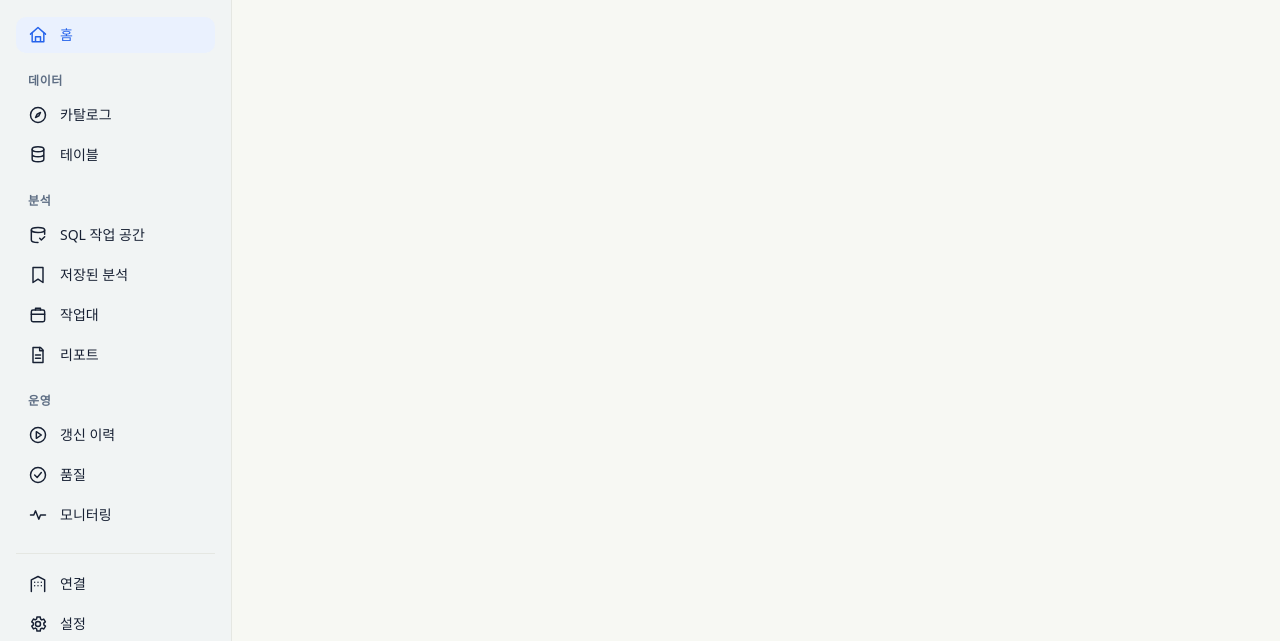
it: command palette (#533) › lists matching tables before sources, and picks the first table by default
This screenshot has width=1280, height=641.
Press k
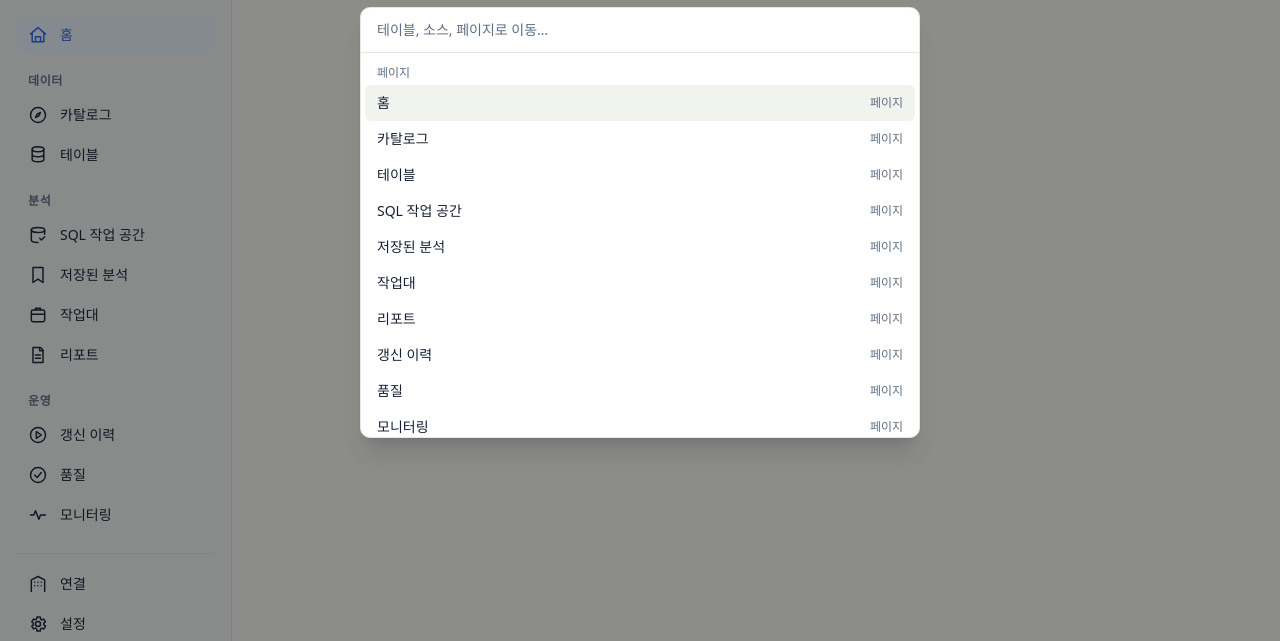
Type "아파트" into the dropdown.
click(640, 31); type("아파트")  # box x1=361 y1=8 x2=919 y2=53
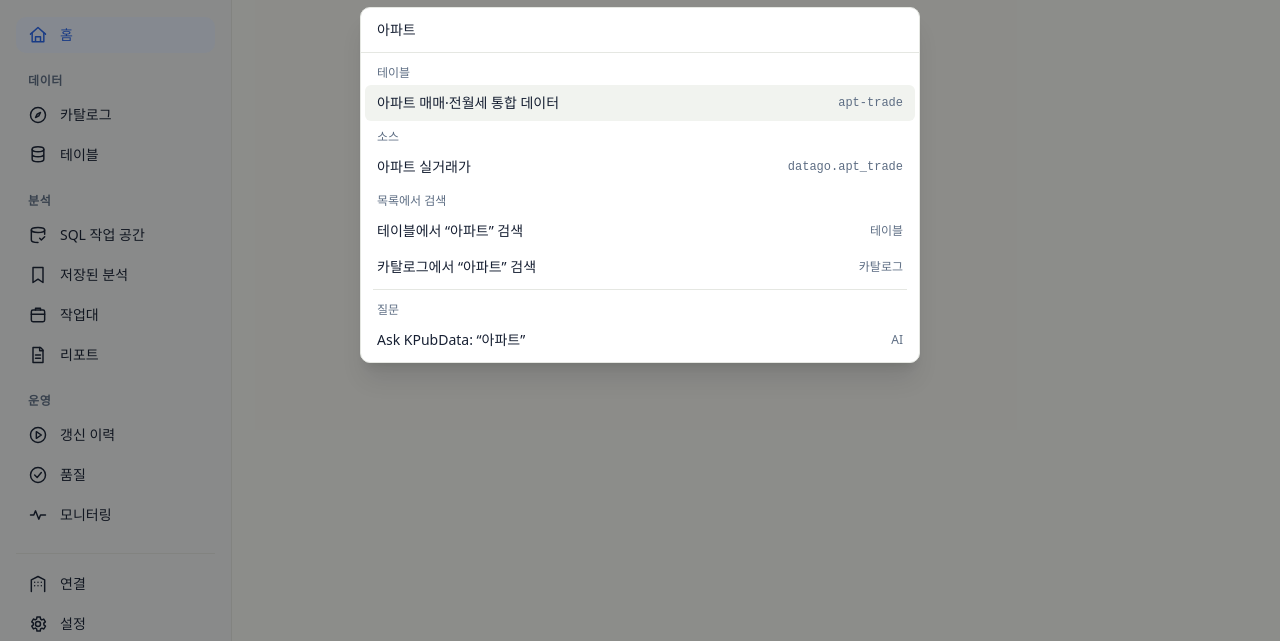
Now the list named "테이블" is shown, box x1=365 y1=85 x2=915 y2=121
Now the option "아파트 실거래가 datago.apt_trade" is shown, box x1=377 y1=157 x2=903 y2=176
Press Enter in the dropdown, box x1=361 y1=8 x2=919 y2=53
(page scrolled)
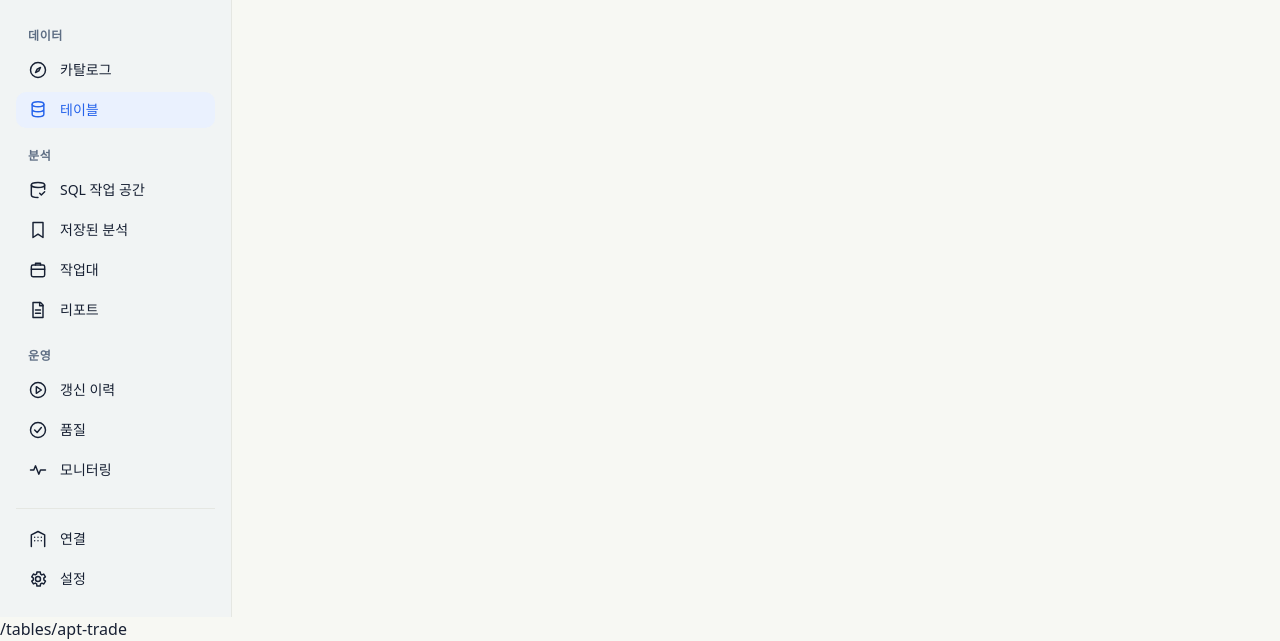
Now the text with test id "location" reads "/tables/apt-trade", box x1=0 y1=618 x2=127 y2=640
